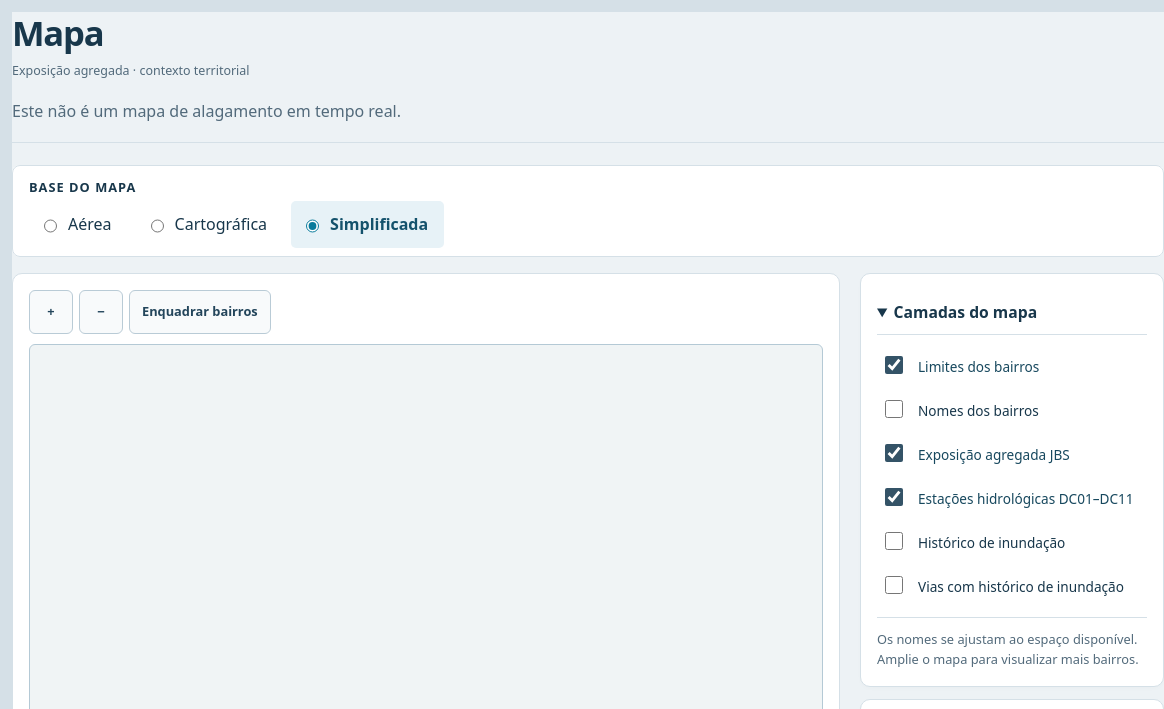
Test: Fase 07.1 — controles, lazy loading e falhas independentes › falha aerea aciona Simplificada sem loop e permite nova tentativa manual
Click the radio button labelled "Aérea" at {"x": 50, "y": 226}, box [44,204,57,248]
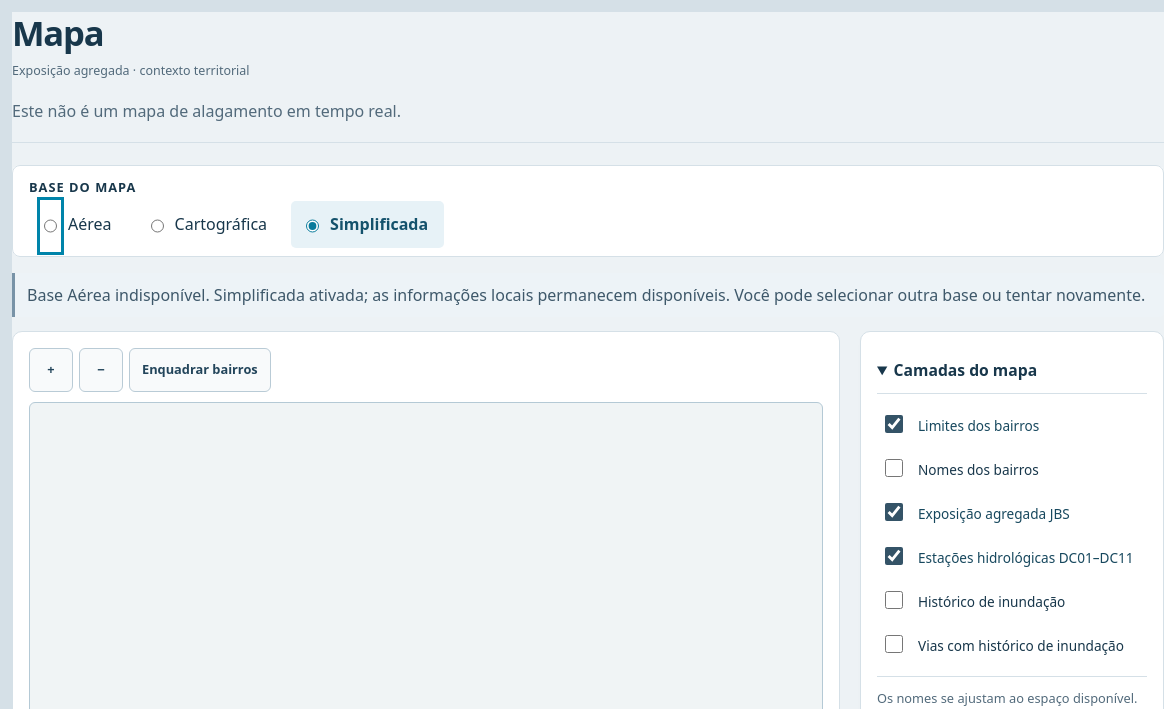
Expected: the radio button labelled "Simplificada" is checked, [306,204,319,248]
Result: the text "Simplificada ativada" is shown at [111,284,1145,306]
Click the radio button labelled "Aérea" at {"x": 50, "y": 226}, box [44,204,57,248]
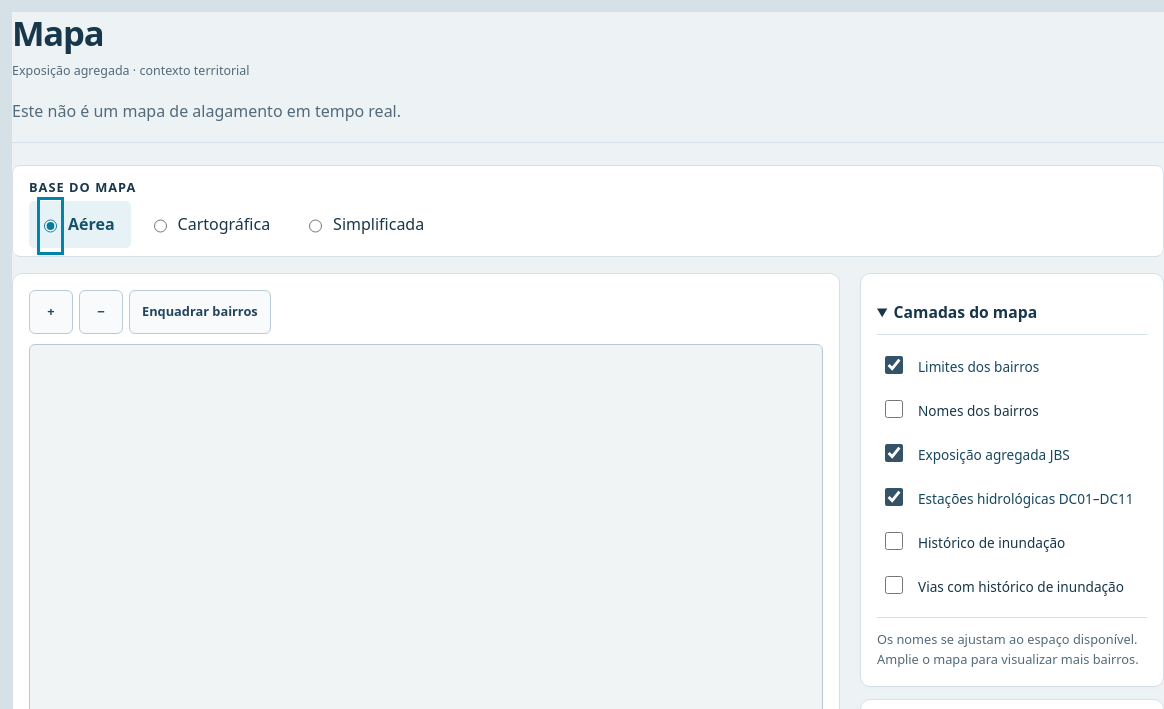
Result: the text "Simplificada ativada" is gone
